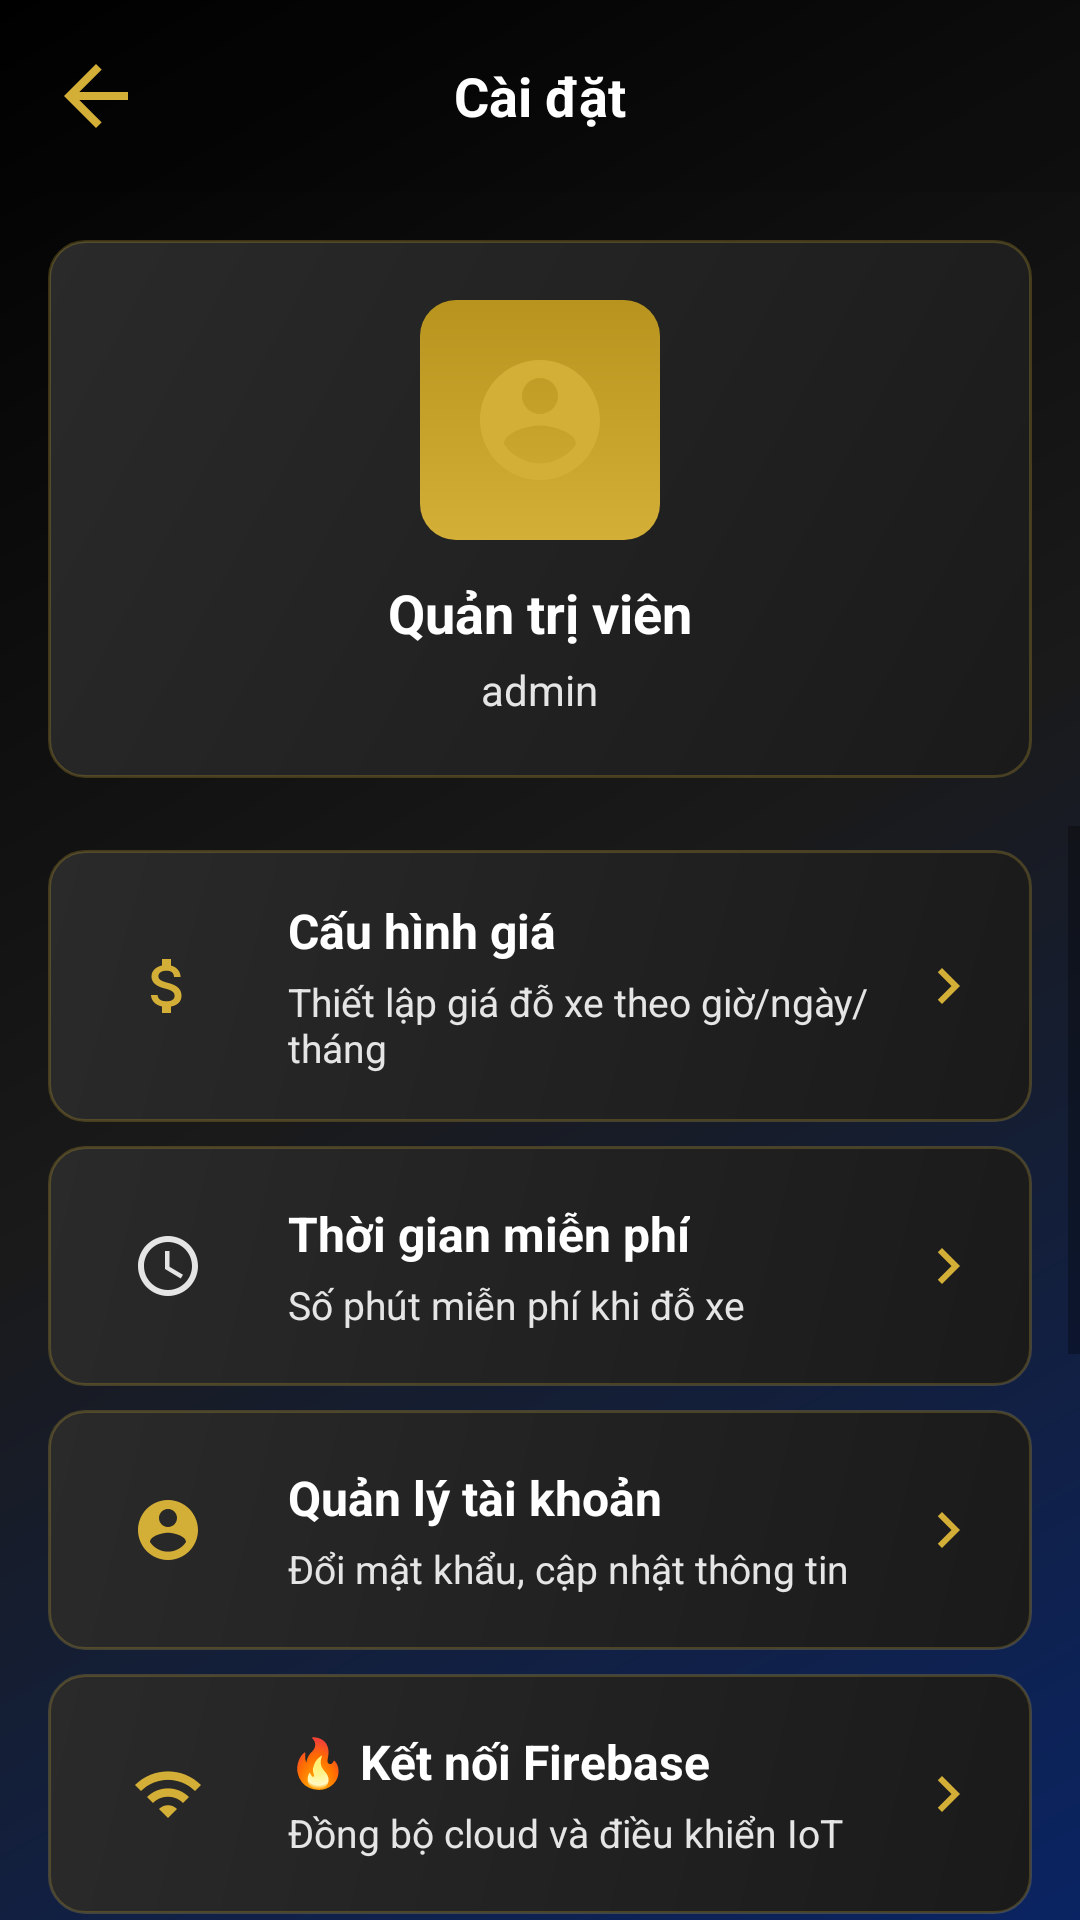

Icons on this 1080x1920 Android screen, each with its box as (left=x1, top=y1, right=x2, bottom=y2):
account: (left=138, top=1500, right=198, bottom=1560)
Avatar: (left=420, top=300, right=660, bottom=540)
Back: (left=64, top=64, right=128, bottom=128)
clock: (left=138, top=1236, right=198, bottom=1296)
price: (left=151, top=959, right=182, bottom=1013)
wifi: (left=135, top=1771, right=201, bottom=1818)
